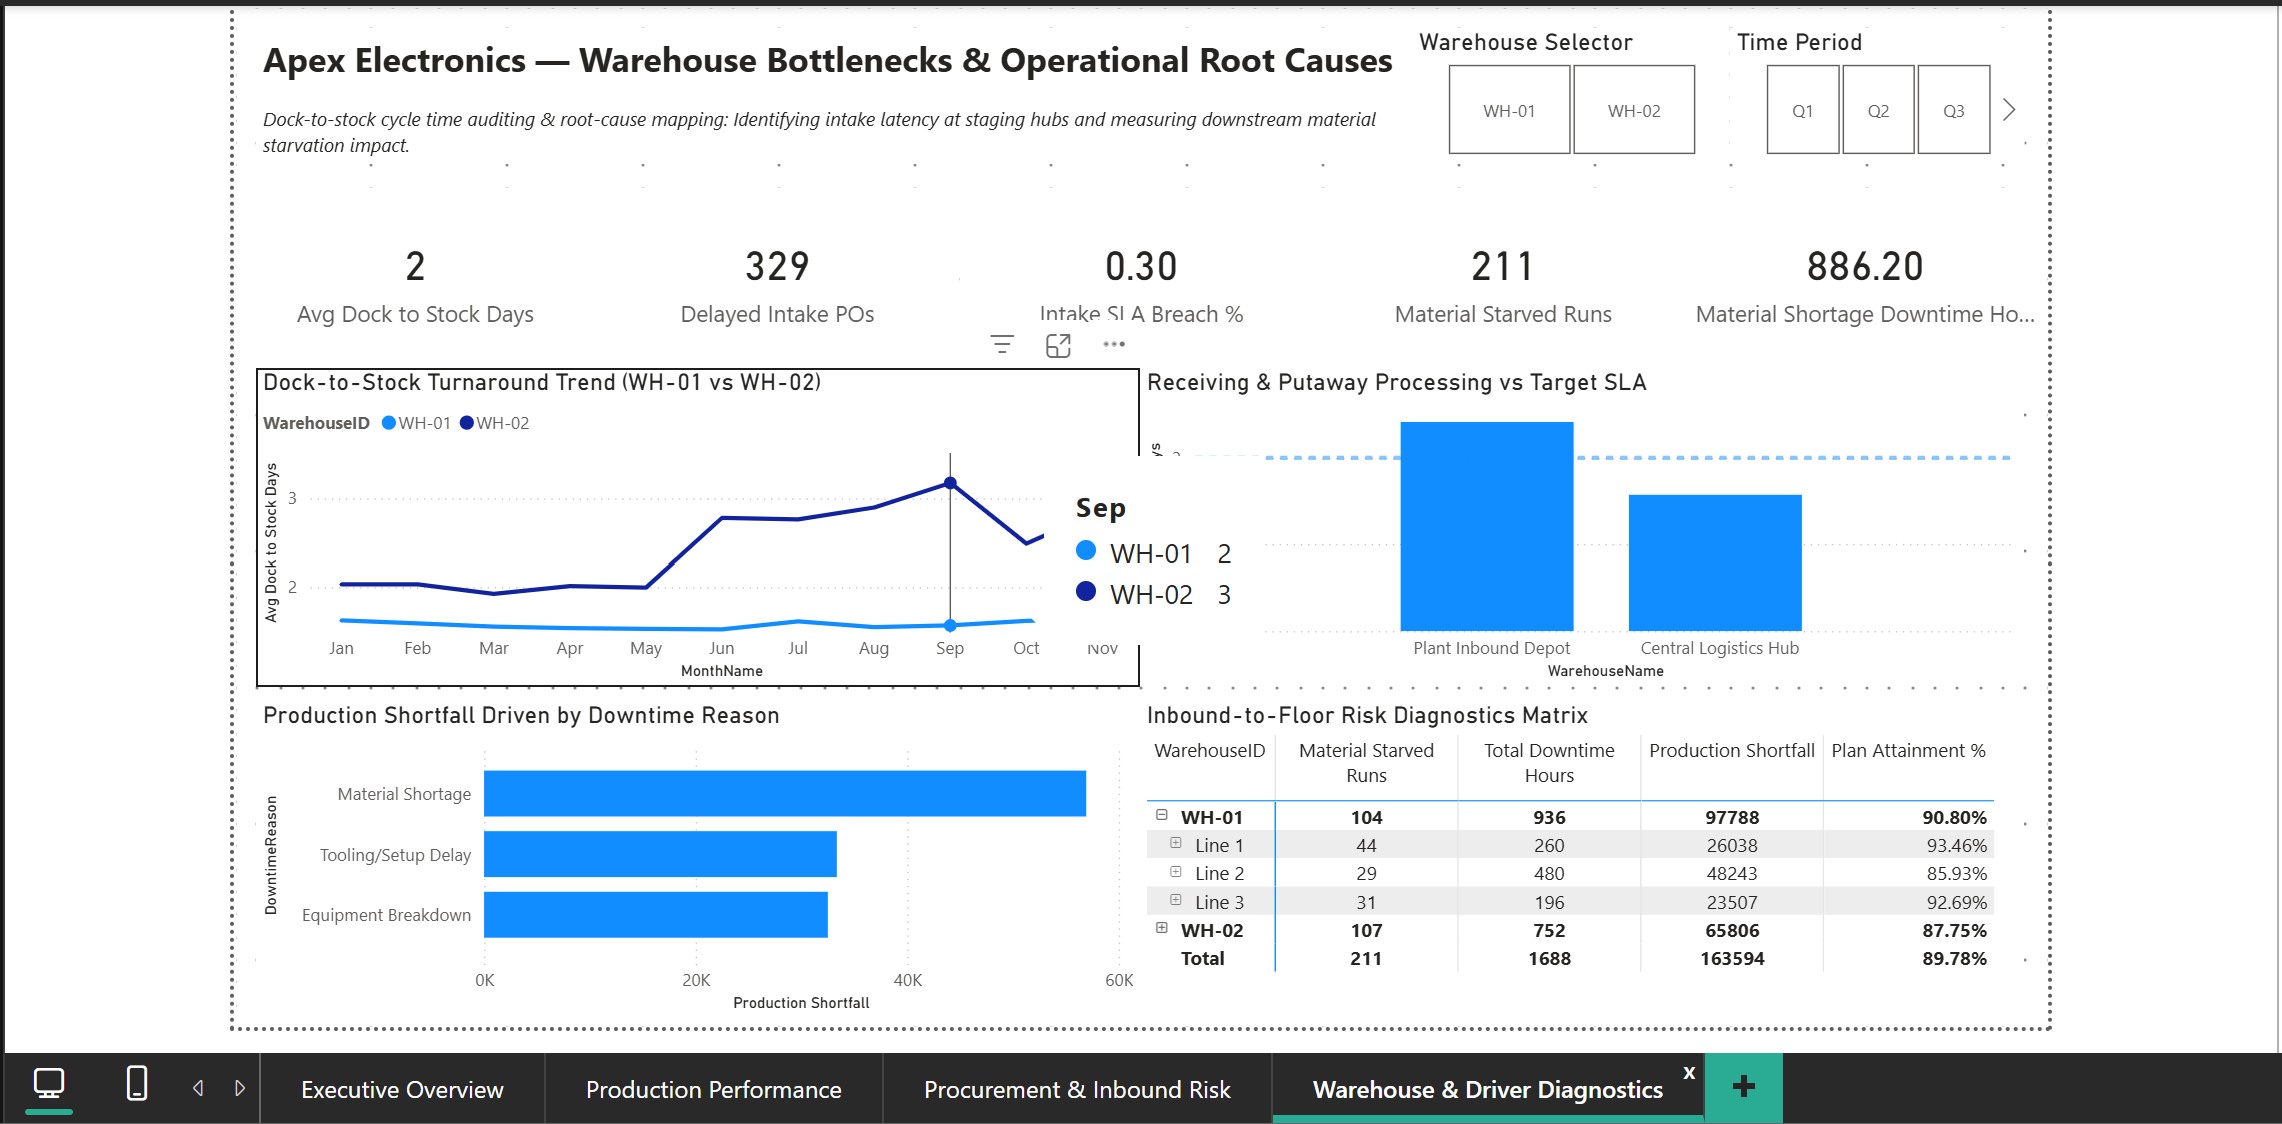

This screenshot's page, from the dashboard's own definition file:
{"tool":"powerbi","page":{"name":"Warehouse & Driver Diagnostics","canvas":[1280,720],"ordinal":3},"visuals":[{"type":"textbox","box":[16,16,816,96],"z":0},{"type":"slicer","title":"Warehouse Selector","fields":{"Values":["Dim_Warehouse.WarehouseID"]},"box":[832,16,224,96],"z":1000},{"type":"slicer","title":"Time Period","fields":{"Values":["Dim_Date.Quarter"]},"box":[1056,16,208,96],"z":2000},{"type":"card","fields":{"Values":["_Measures.Intake SLA Breach %"]},"box":[512,128,256,128],"z":3000},{"type":"card","fields":{"Values":["_Measures.Delayed Intake POs"]},"box":[256,128,256,128],"z":4000},{"type":"card","fields":{"Values":["_Measures.Material Starved Runs"]},"box":[768,128,256,128],"z":5000},{"type":"card","fields":{"Values":["_Measures.Avg Dock to Stock Days"]},"box":[0,128,256,128],"z":6000},{"type":"card","fields":{"Values":["_Measures.Material Shortage Downtime Hours"]},"box":[1024,128,256,128],"z":7000},{"type":"lineChart","title":"Dock-to-Stock Turnaround Trend (WH-01 vs WH-02)","fields":{"Category":["Dim_Date.MonthName"],"Series":["Dim_Warehouse.WarehouseID"],"Y":["_Measures.Avg Dock to Stock Days"]},"box":[16,256,624,224],"z":8000},{"type":"clusteredColumnChart","title":"Receiving & Putaway Processing vs Target SLA","fields":{"Category":["Dim_Warehouse.WarehouseName"],"Y":["_Measures.Avg Dock to Stock Days"]},"box":[640,256,624,224],"z":9000},{"type":"clusteredBarChart","title":"Production Shortfall Driven by Downtime Reason","fields":{"Category":["Fact_ProductionRun.DowntimeReason"],"Y":["_Measures.Production Shortfall"]},"box":[16,490,624,224],"z":10000},{"type":"pivotTable","title":"Inbound-to-Floor Risk Diagnostics Matrix","fields":{"Rows":["Dim_Warehouse.WarehouseID","Fact_ProductionRun.LineID","Fact_ProductionRun.DowntimeReason"],"Values":["_Measures.Material Starved Runs","_Measures.Total Downtime Hours","_Measures.Production Shortfall","_Measures.Plan Attainment %"]},"box":[640,490,624,224],"z":11000}]}

Visuals, with their boxes on the page's 1280x720 design canvas (x1, y1, x2, y2). These are canvas units, not pixel positions in the 2282x1124 screenshot, which may show the page scaled, cropped or inside an application window:
textbox: box(16, 16, 832, 112)
"Warehouse Selector" slicer: box(832, 16, 1056, 112)
"Time Period" slicer: box(1056, 16, 1264, 112)
card - _Measures.Intake SLA Breach %: box(512, 128, 768, 256)
card - _Measures.Delayed Intake POs: box(256, 128, 512, 256)
card - _Measures.Material Starved Runs: box(768, 128, 1024, 256)
card - _Measures.Avg Dock to Stock Days: box(0, 128, 256, 256)
card - _Measures.Material Shortage Downtime Hours: box(1024, 128, 1280, 256)
"Dock-to-Stock Turnaround Trend (WH-01 vs WH-02)" lineChart: box(16, 256, 640, 480)
"Receiving & Putaway Processing vs Target SLA" clusteredColumnChart: box(640, 256, 1264, 480)
"Production Shortfall Driven by Downtime Reason" clusteredBarChart: box(16, 490, 640, 714)
"Inbound-to-Floor Risk Diagnostics Matrix" pivotTable: box(640, 490, 1264, 714)
